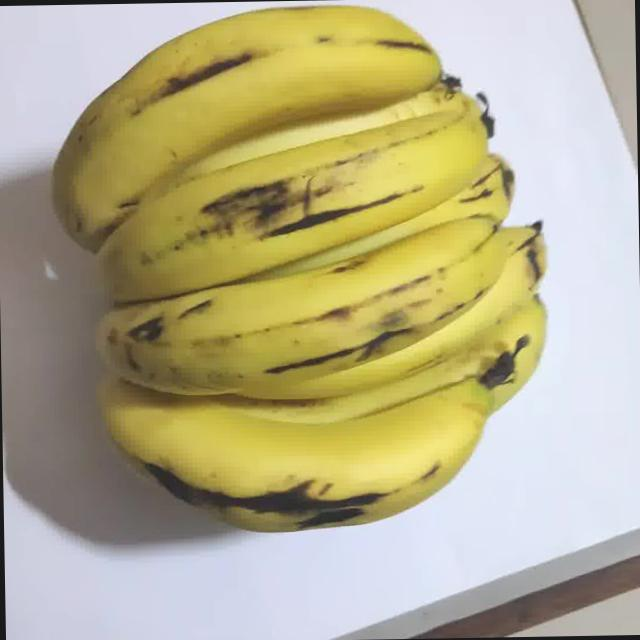banana_pacche: (6, 0, 616, 605)
